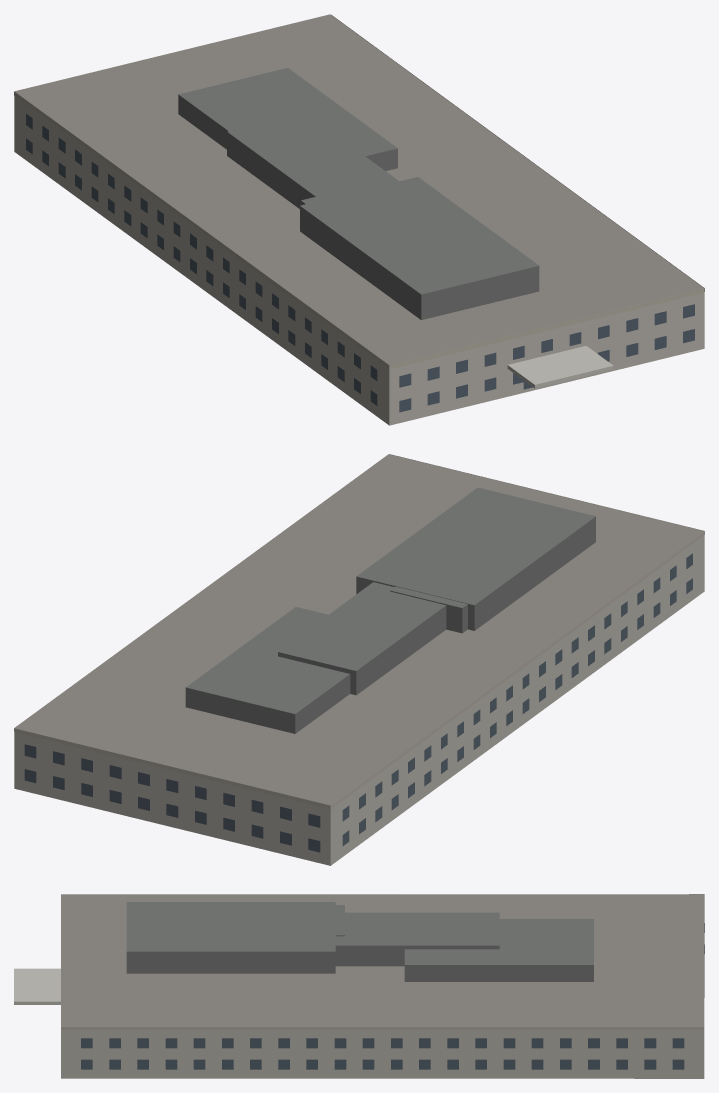
File: hotel-nlr-white-roof-bo242167273.glb
3 renders of one model, top to bottom at view 1: azimuth 30°, elevation 25°; view 2: azimuth 150°, elevation 25°; view 3: azimuth 270°, elevation 25°, orthographic. The views are drawn at different scales.
Visible parts, largest first — view 1: hotel_nlr_white_roof_bo242167273; view 2: hotel_nlr_white_roof_bo242167273; view 3: hotel_nlr_white_roof_bo242167273.
Boxes of the visible parts, box(x1,y1,x2,y2) form: hotel_nlr_white_roof_bo242167273: box(14, 14, 704, 425); hotel_nlr_white_roof_bo242167273: box(14, 454, 704, 865); hotel_nlr_white_roof_bo242167273: box(14, 894, 704, 1078).
Size of the model in its own units: 40.21 by 10.43 by 88.31.
